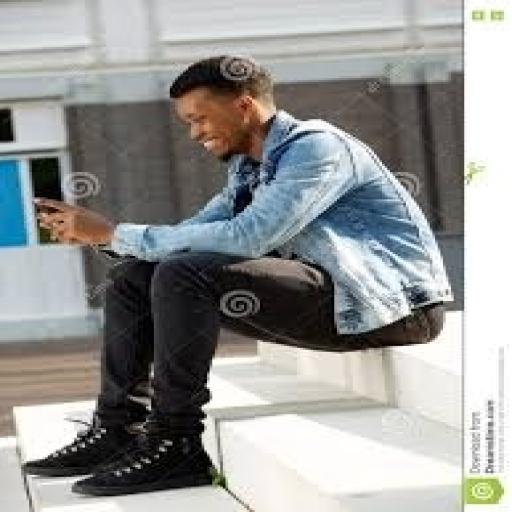sitting: (21, 53, 454, 496)
